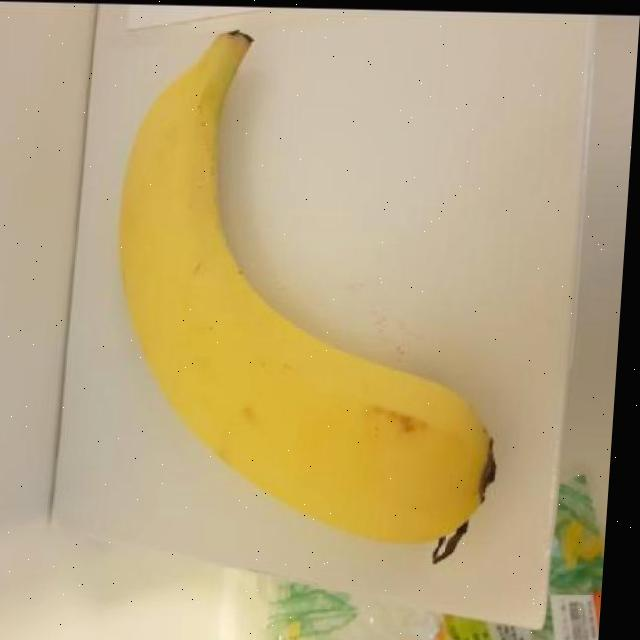banana: (90, 20, 530, 562)
